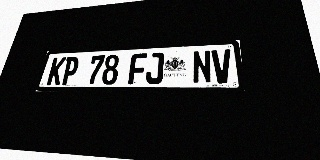7: (85, 55, 105, 85)
8: (101, 54, 120, 85)
F: (128, 53, 147, 84)
J: (145, 52, 164, 84)
K: (46, 57, 67, 85)
N: (192, 50, 212, 84)
P: (60, 56, 80, 85)
V: (211, 49, 233, 83)
